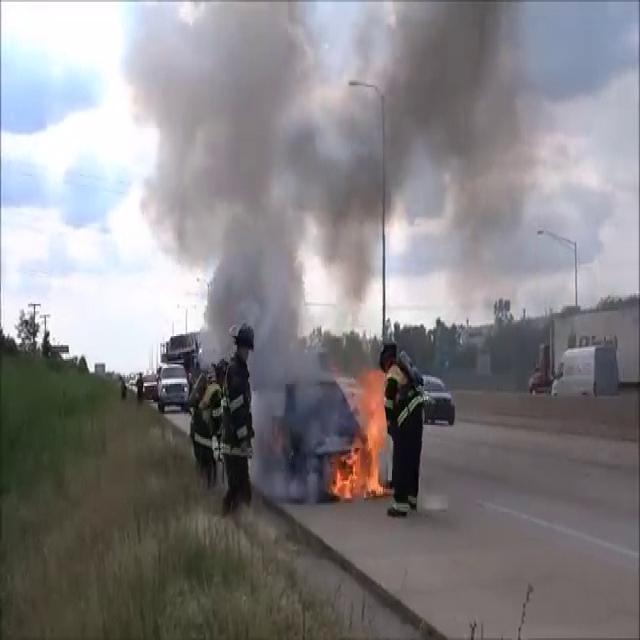Fire: (334, 364, 392, 504)
Smoke: (115, 0, 559, 336)
